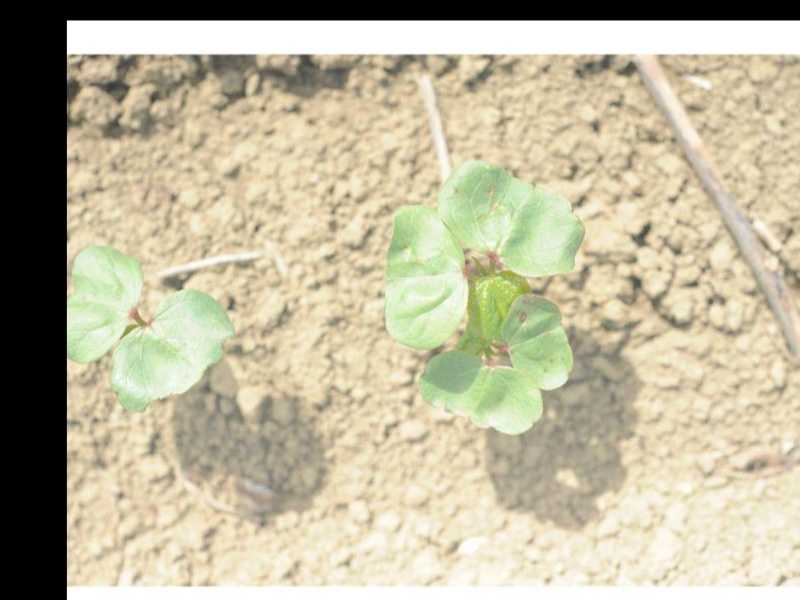cotton: (382, 161, 586, 437), (66, 240, 231, 411)
